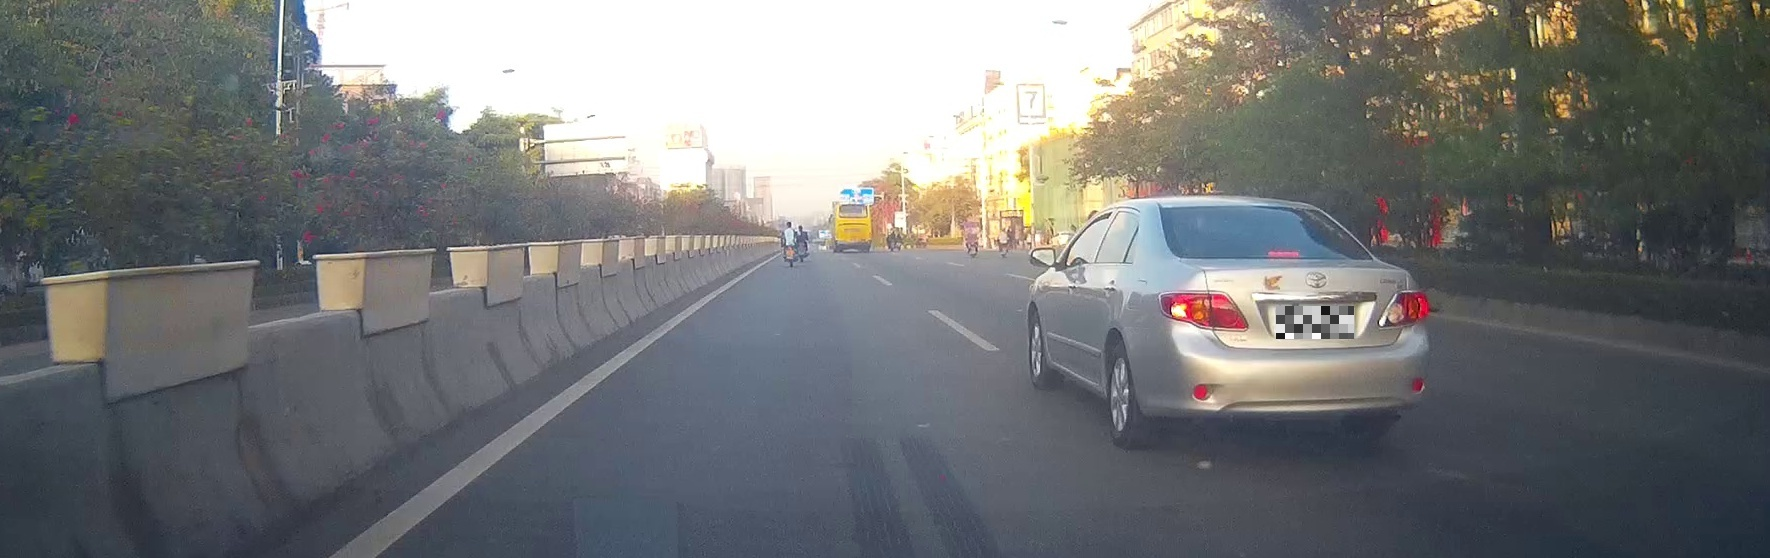L_light: (1157, 291, 1250, 332)
R_light: (1377, 290, 1431, 330)
T_light: (1267, 249, 1300, 260)
day-brake: (1150, 195, 1432, 452)
plate_1: (1276, 306, 1353, 339)
